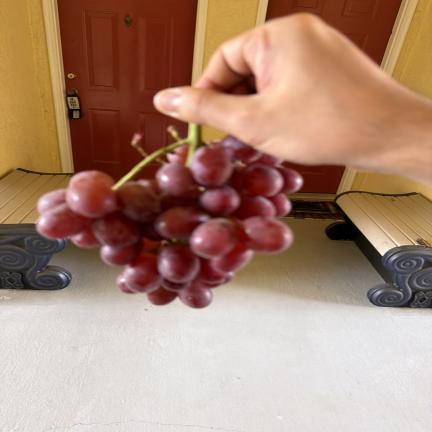grape_cluster: (36, 124, 303, 308)
